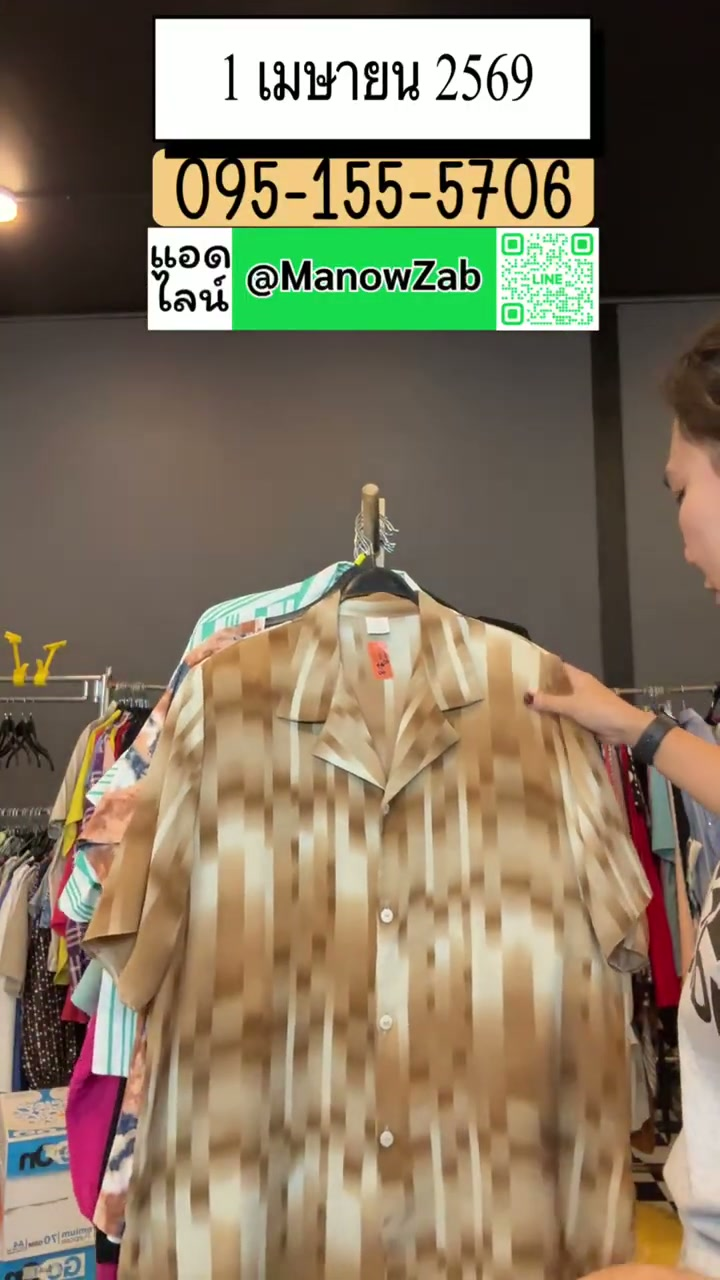display_shirt: (88, 571, 648, 1279)
